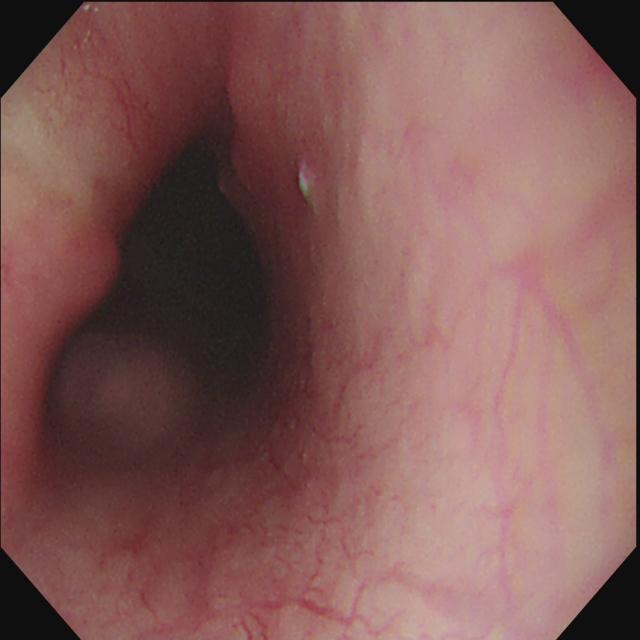E: (122, 129, 254, 328)
